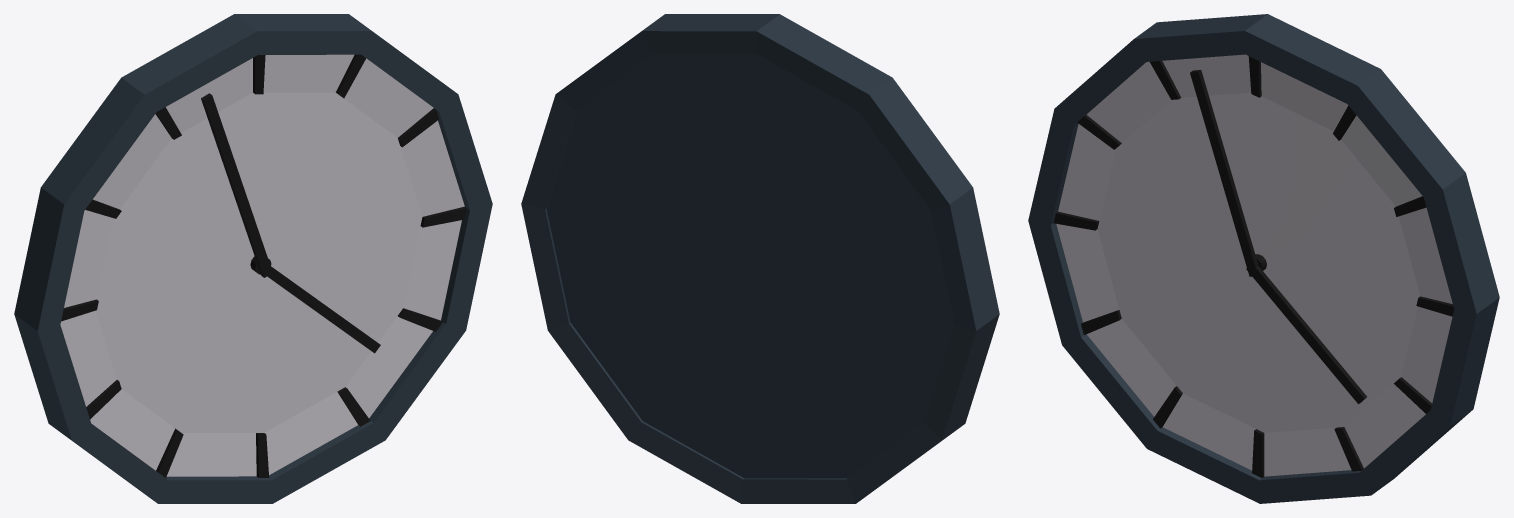
The model's file is WallClock.fbx.
The picture shows the model from 3 angles, left to right: view 1: azimuth 30°, elevation 25°; view 2: azimuth 150°, elevation 25°; view 3: azimuth 330°, elevation 25°; orthographic projection.
Visible parts, largest first — view 1: Clock.001, ClockArm.002, ClockArm.003; view 2: Clock.001; view 3: Clock.001, ClockArm.002, ClockArm.003.
Boxes of the visible parts, x1,y1,x2,y2 form: Clock.001: [14, 14, 492, 503]; ClockArm.002: [201, 93, 272, 277]; ClockArm.003: [258, 266, 380, 353]; Clock.001: [521, 14, 999, 503]; Clock.001: [1028, 14, 1499, 503]; ClockArm.002: [1190, 70, 1258, 276]; ClockArm.003: [1246, 266, 1366, 403].
Bounding box in the file's own units: 37.11 × 37.11 × 3.45.
